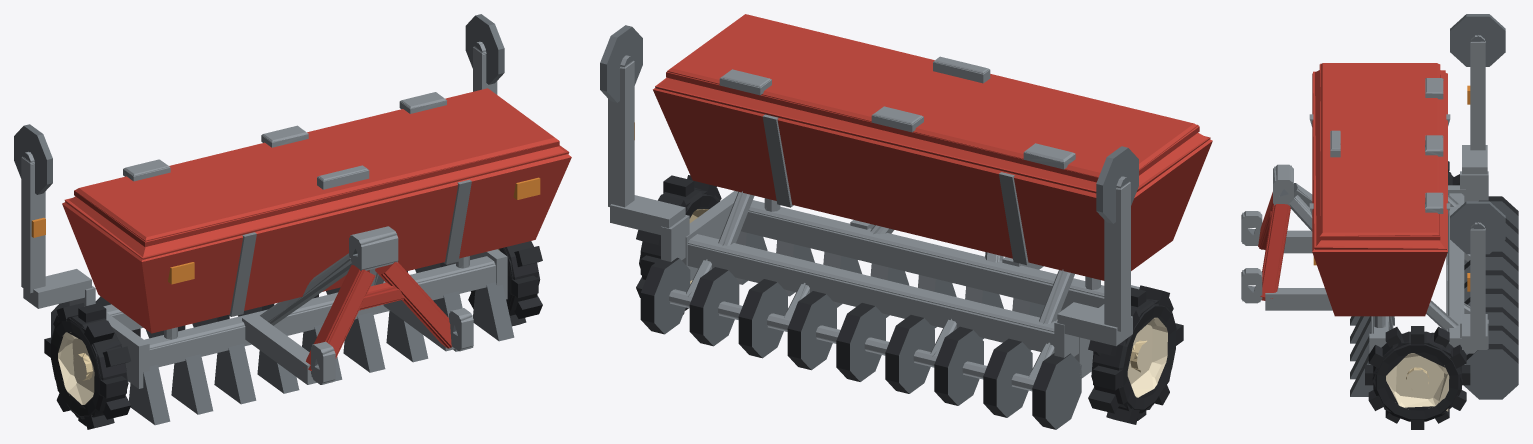
File: FMS_Mach_Seeder.fbx
The picture shows the model from 3 angles, left to right: view 1: azimuth 30°, elevation 25°; view 2: azimuth 150°, elevation 25°; view 3: azimuth 270°, elevation 25°; orthographic projection. The views are drawn at different scales.
Parts seen in each view (by area): view 1: Frame, Lid, Frame_Low1, Wheel_R, Marker_R, Wheel_L, Marker_L, Wheel_R_Low1, Lid_Low1; view 2: Frame, Lid, Frame_Low1, Wheel_R, Marker_R, Marker_L, Wheel_R_Low1, Wheel_L, Lid_Low1, Wheel_L_Low1; view 3: Frame, Lid, Wheel_L, Frame_Low1, Marker_L, Marker_R, Wheel_L_Low1, Lid_Low1.
Boxes of the visible parts, box(x1,y1,x2,y2) form: Frame: box(23, 146, 571, 424); Lid: box(74, 88, 559, 246); Frame_Low1: box(23, 145, 569, 424); Wheel_R: box(44, 303, 131, 429); Marker_R: box(14, 124, 52, 293); Wheel_L: box(468, 241, 542, 326); Marker_L: box(465, 14, 504, 94); Wheel_R_Low1: box(44, 303, 128, 428); Lid_Low1: box(74, 89, 558, 241); Frame: box(610, 78, 1212, 429); Lid: box(666, 14, 1199, 182); Frame_Low1: box(610, 77, 1210, 426); Wheel_R: box(1088, 285, 1183, 424); Marker_R: box(1096, 146, 1138, 331); Marker_L: box(600, 25, 642, 207); Wheel_R_Low1: box(1088, 285, 1183, 424); Wheel_L: box(636, 175, 721, 314); Lid_Low1: box(667, 28, 1198, 177); Wheel_L_Low1: box(636, 175, 719, 313); Frame: box(1241, 70, 1518, 399); Lid: box(1319, 63, 1443, 240); Wheel_L: box(1365, 326, 1470, 429); Frame_Low1: box(1242, 70, 1518, 396); Marker_L: box(1450, 201, 1505, 340); Marker_R: box(1450, 14, 1505, 150); Wheel_L_Low1: box(1365, 326, 1469, 429); Lid_Low1: box(1320, 63, 1443, 236).
Size of the model in its own units: 3.04 by 1.68 by 1.84.
